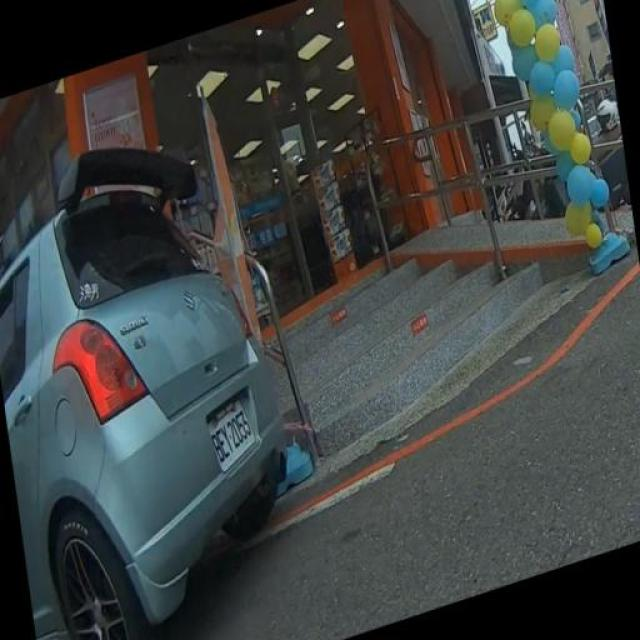Legalparking: (1, 142, 359, 632)
